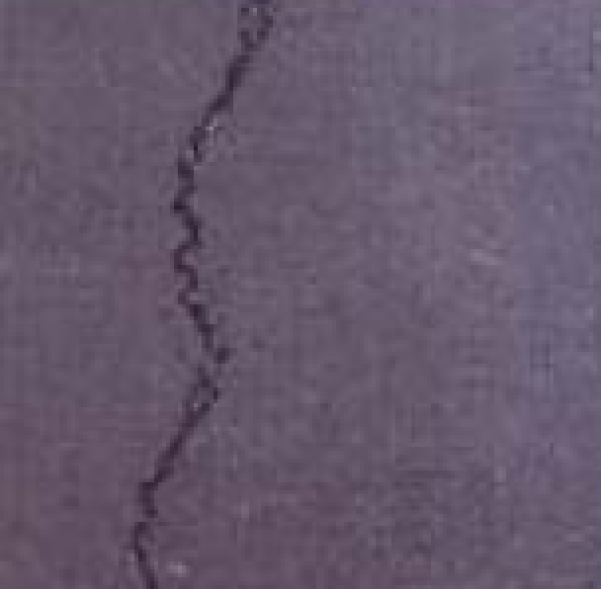Retak Memanjang: (119, 1, 280, 589)
